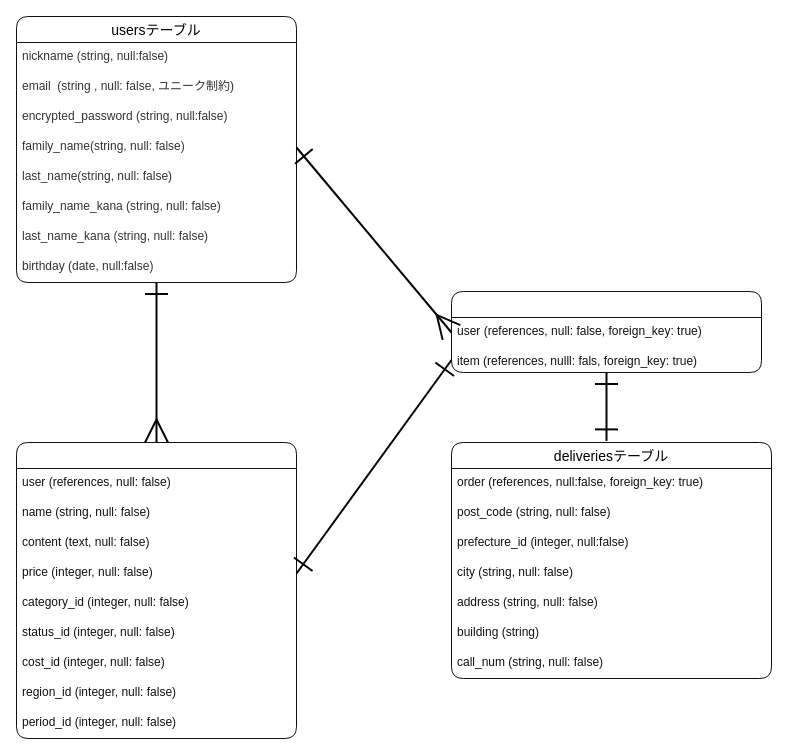
The diagram is 788 pixels wide and 755 high, and some of its shapes have lost their labels. Each missing label, with the box of its shape:
itemsテーブル: (16, 442, 296, 738)
ordersテーブル: (450, 290, 762, 372)
